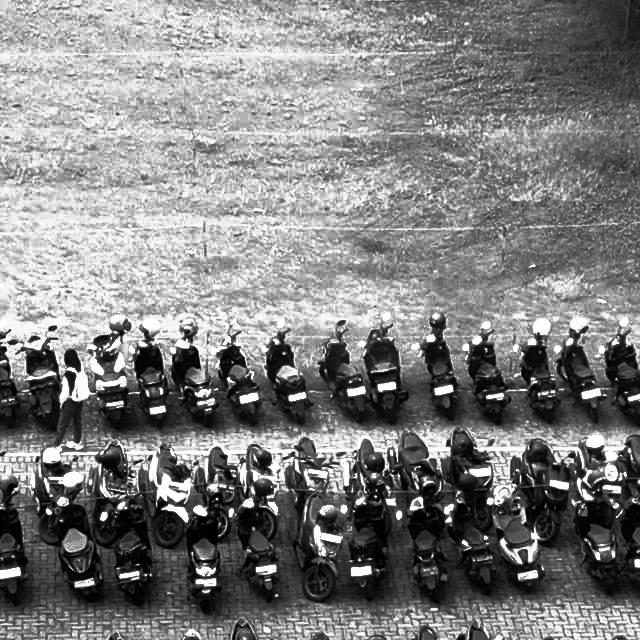motor: (228, 492, 290, 611), (47, 492, 106, 614), (512, 436, 575, 547), (107, 488, 161, 615), (402, 490, 458, 610), (340, 489, 394, 608), (493, 487, 549, 597), (291, 494, 343, 606), (573, 487, 622, 604), (448, 490, 499, 599), (183, 501, 230, 619), (140, 441, 190, 551), (172, 317, 218, 431), (560, 317, 607, 428), (316, 328, 370, 424), (87, 318, 133, 429), (30, 438, 75, 550), (466, 321, 512, 429), (362, 322, 411, 422), (237, 441, 286, 537), (520, 318, 563, 427), (339, 422, 393, 507), (438, 418, 502, 489), (21, 317, 61, 430), (263, 331, 311, 425), (135, 321, 175, 433), (88, 433, 130, 539), (419, 326, 466, 418), (387, 422, 448, 492), (0, 483, 34, 606), (603, 317, 640, 430), (218, 330, 261, 426), (283, 432, 339, 505), (191, 433, 241, 509), (572, 431, 620, 488), (623, 485, 640, 604), (0, 321, 18, 430), (220, 611, 277, 640), (615, 429, 640, 484)
